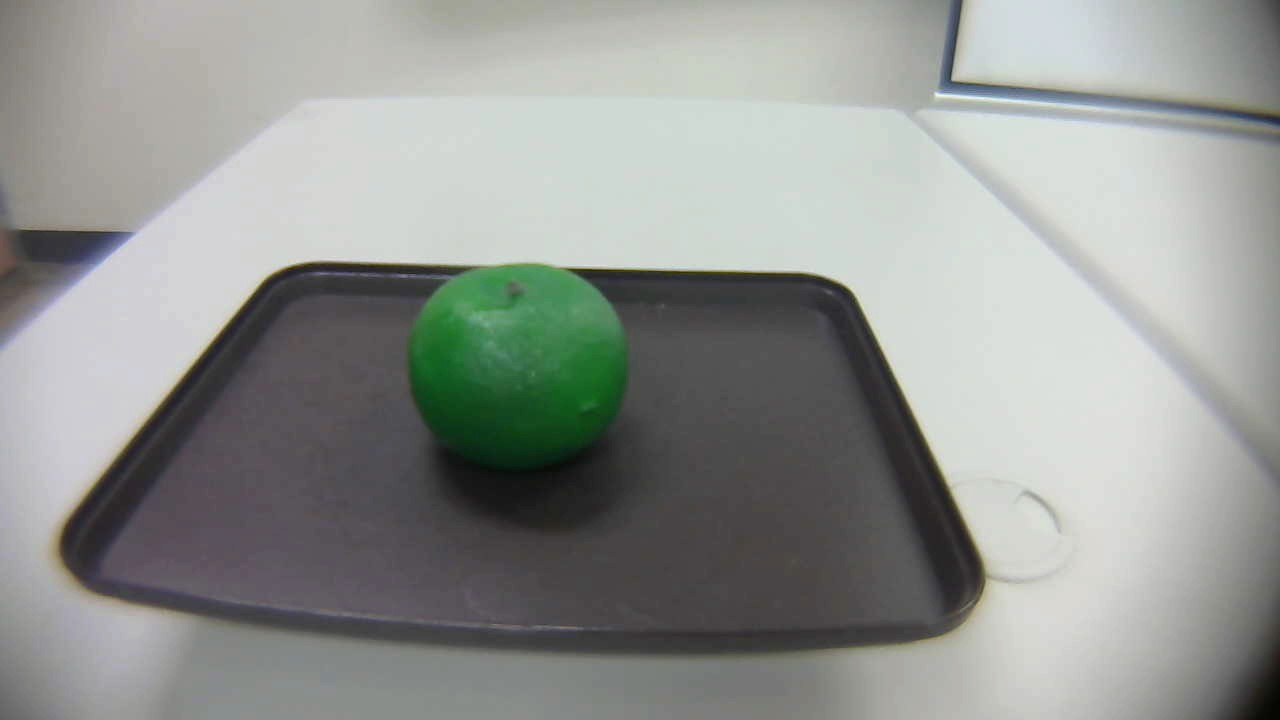green orange: (401, 250, 633, 469)
